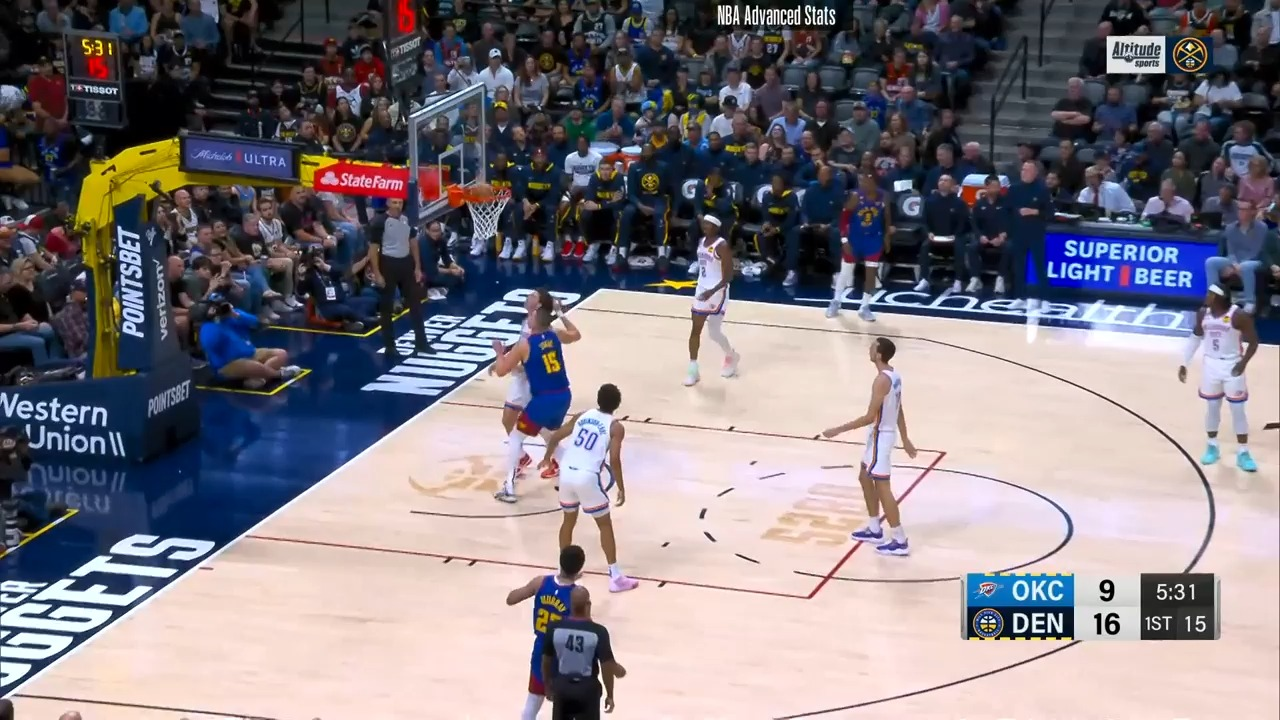net: (446, 177, 510, 240)
player: (536, 380, 640, 597), (820, 336, 919, 561), (504, 545, 608, 720), (500, 293, 582, 497), (1194, 281, 1267, 481), (684, 216, 743, 389), (830, 169, 892, 329)
referee: (371, 202, 437, 370)
